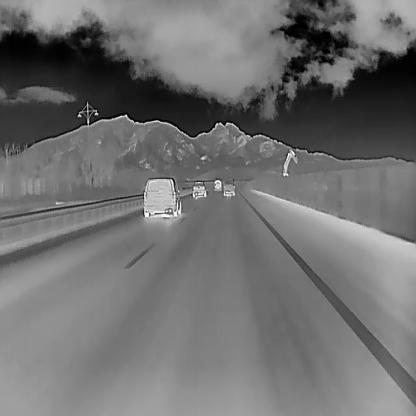car: (142, 177, 181, 217), (190, 179, 206, 198), (222, 177, 235, 196), (213, 177, 222, 192)
